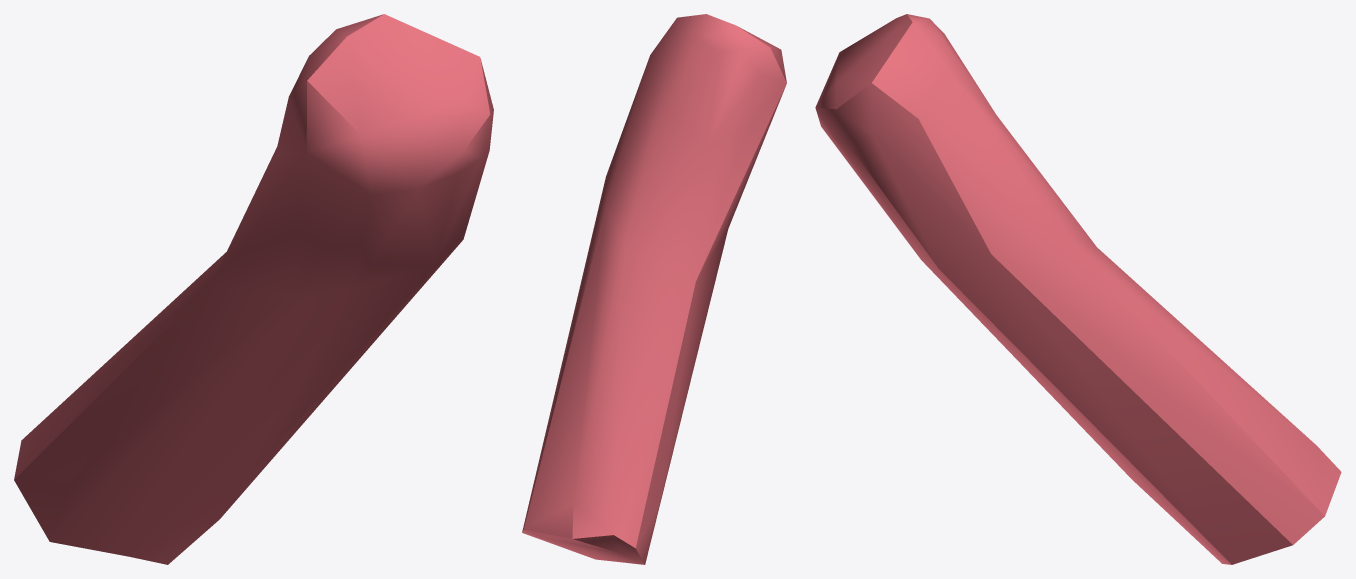
The model's file is fma18887_fj3607.glb.
3 views of the same model, side by side, from view 1: azimuth 30°, elevation 25°; view 2: azimuth 150°, elevation 25°; view 3: azimuth 270°, elevation 25° (orthographic). The views are drawn at different scales.
Visible parts, largest first — view 1: FMA18887_FJ3607; view 2: FMA18887_FJ3607; view 3: FMA18887_FJ3607.
Boxes of the visible parts, box(x1,y1,x2,y2) form: FMA18887_FJ3607: box(14, 14, 493, 564); FMA18887_FJ3607: box(522, 14, 786, 564); FMA18887_FJ3607: box(815, 14, 1341, 564).
Size of the model in its own units: 0.00967 by 0.0269 by 0.0233.
